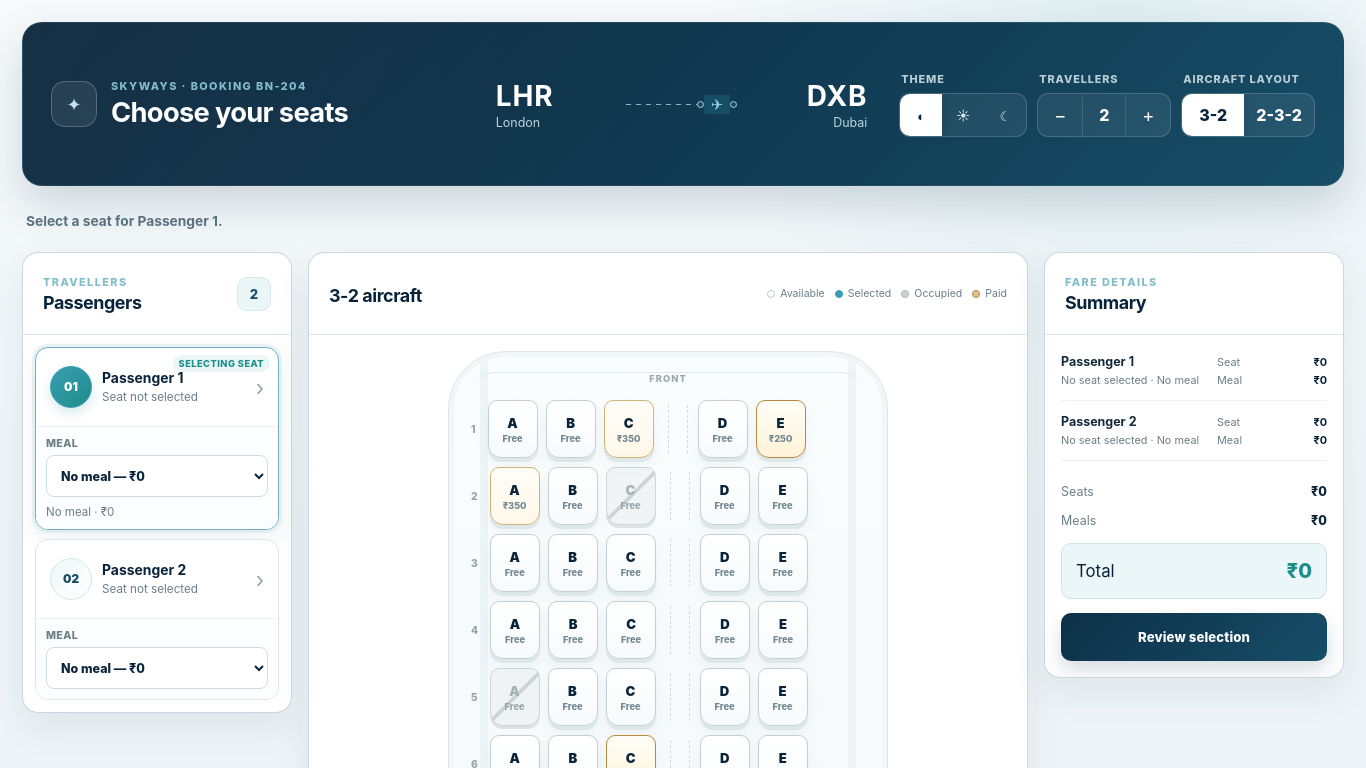
Scenario: App › switches passengers and preserves separate seat assignments
The width and height of the screenshot is (1366, 768).
Click the button with aria-label "Seat 1A" at point(512, 429), box [488,400,538,458]
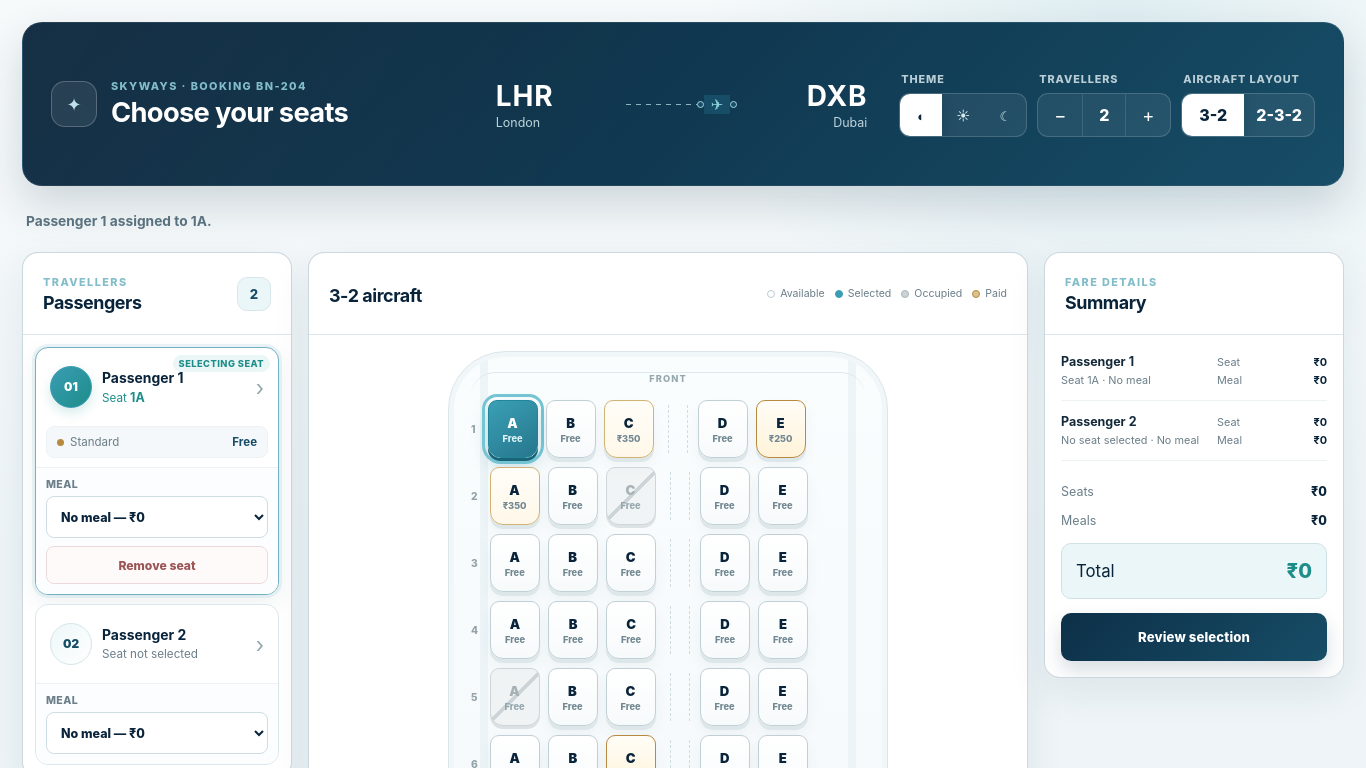
Click the button "02 Passenger 2 Seat not selected ›" at point(157, 644), box [46,615,268,673]
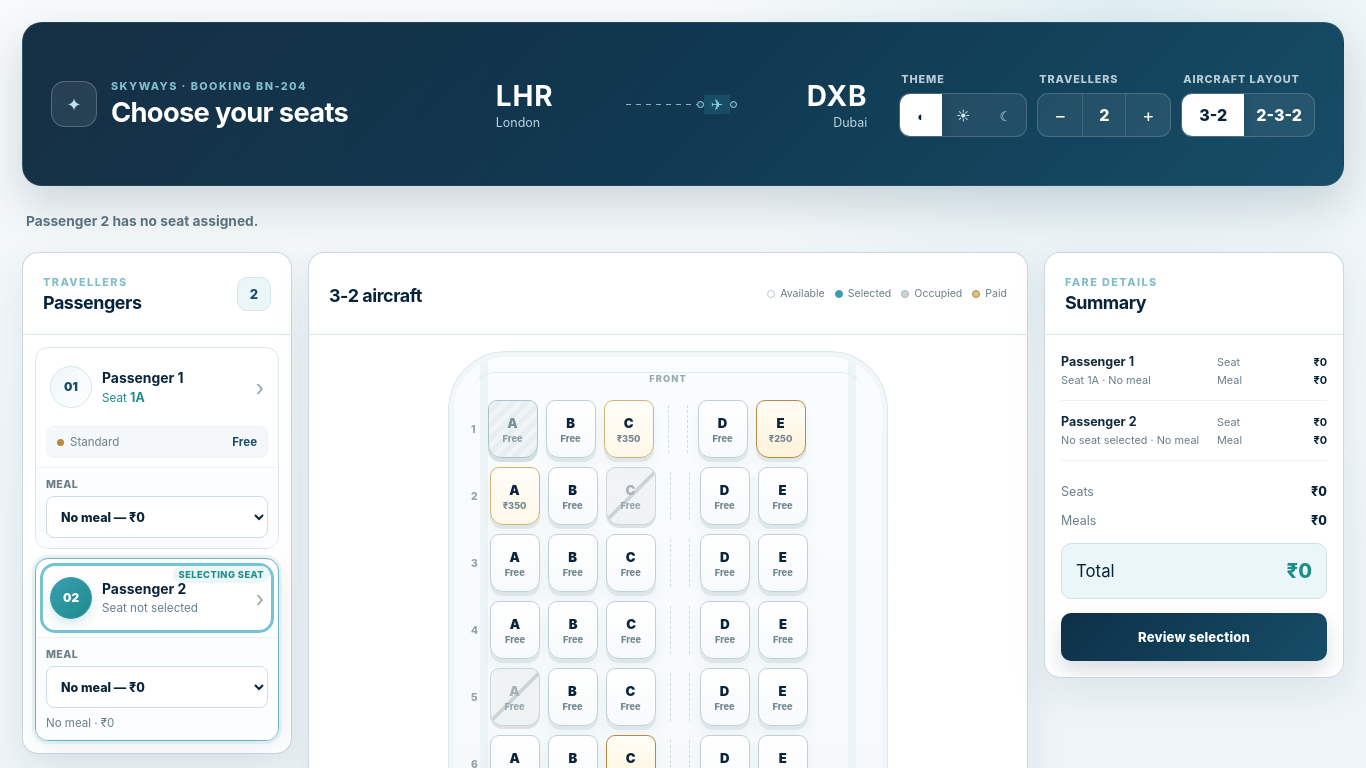
Click the button with aria-label "Seat 1B" at point(570, 429), box [546,400,596,458]
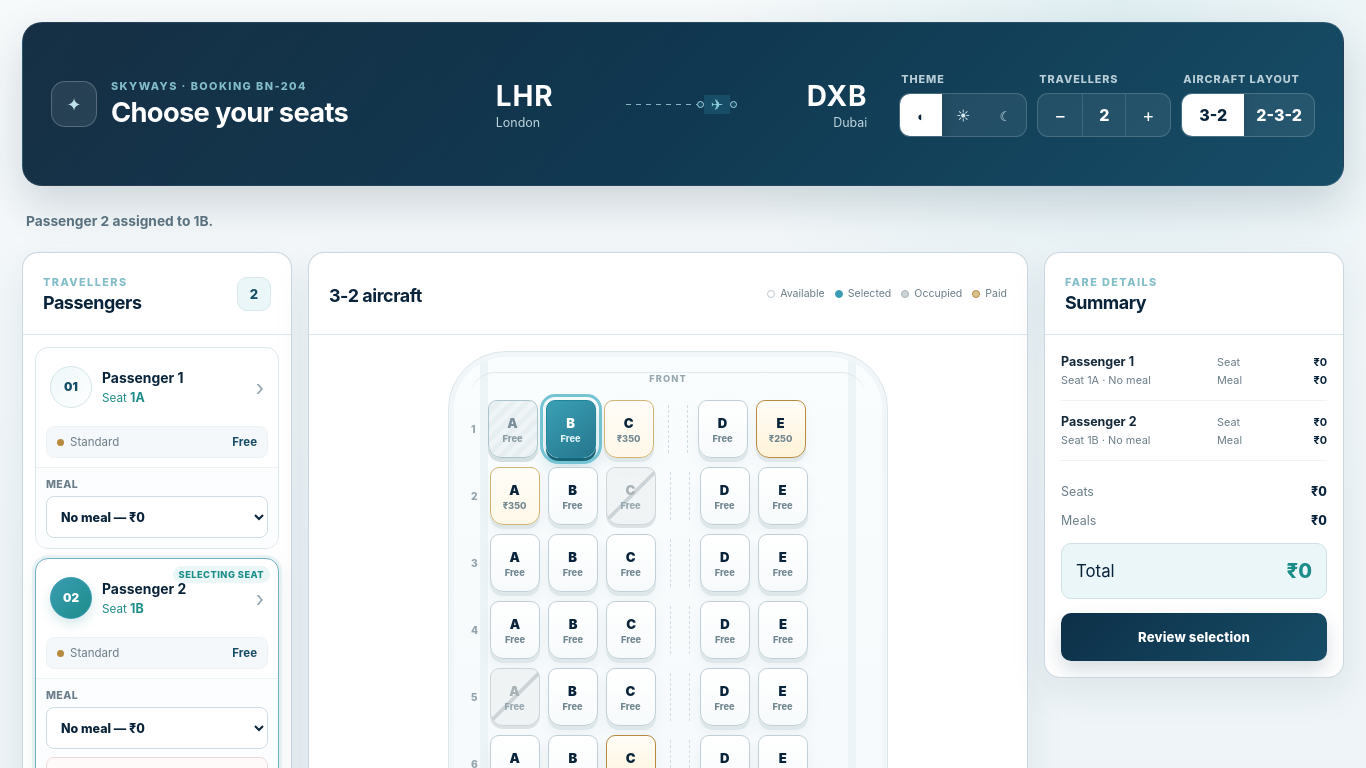
Result: the text "Passenger 2 assigned to 1B." is shown at [26,213,213,229]
Click the button with aria-label "Select Passenger 1" at point(157, 387), box [46,358,268,416]
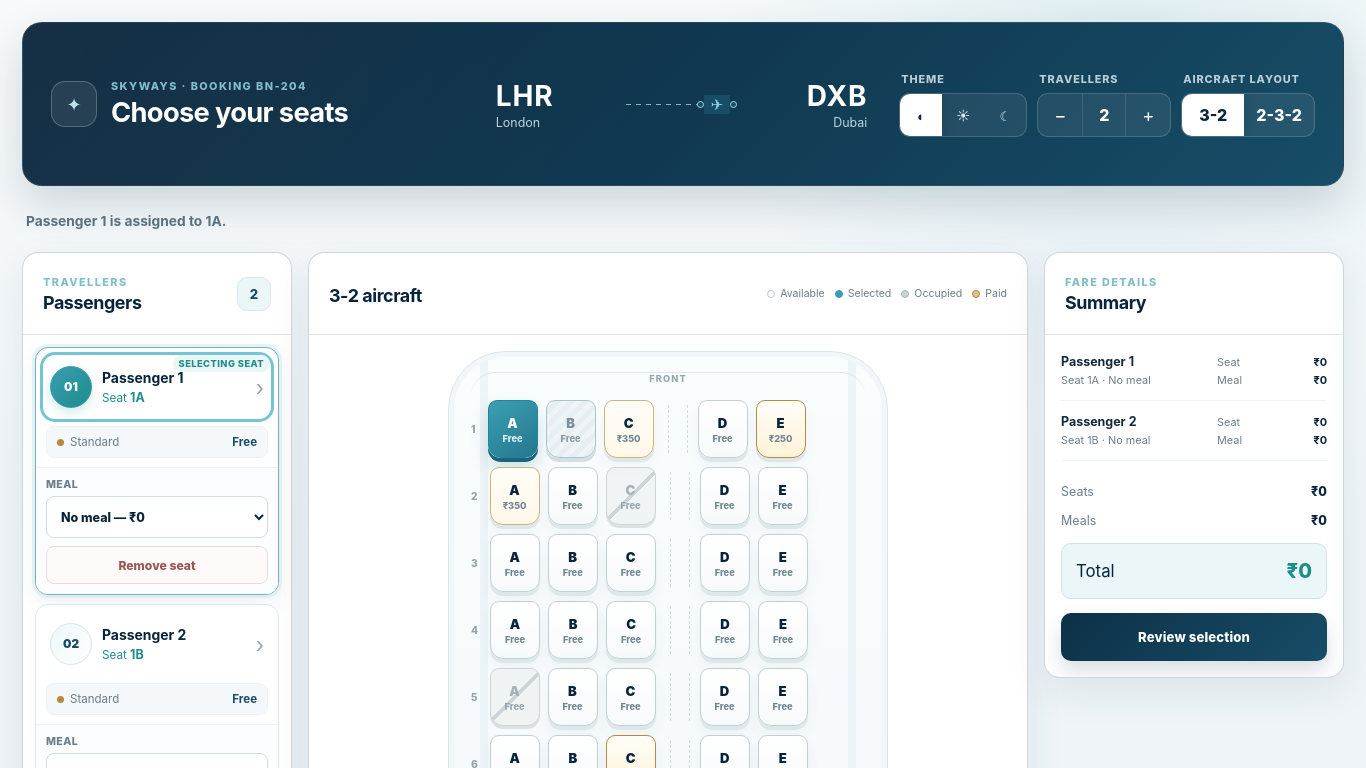
Result: the text "Passenger 1 is assigned to 1A." is shown at [26,213,226,229]
